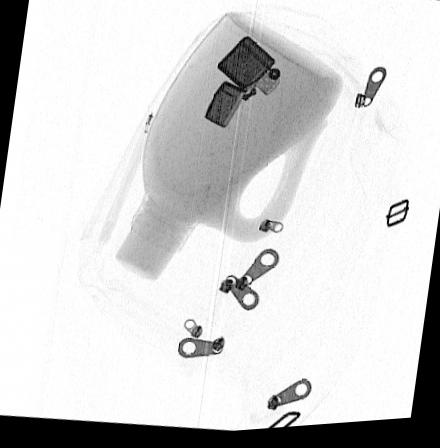Lighter: (202, 39, 281, 132)
